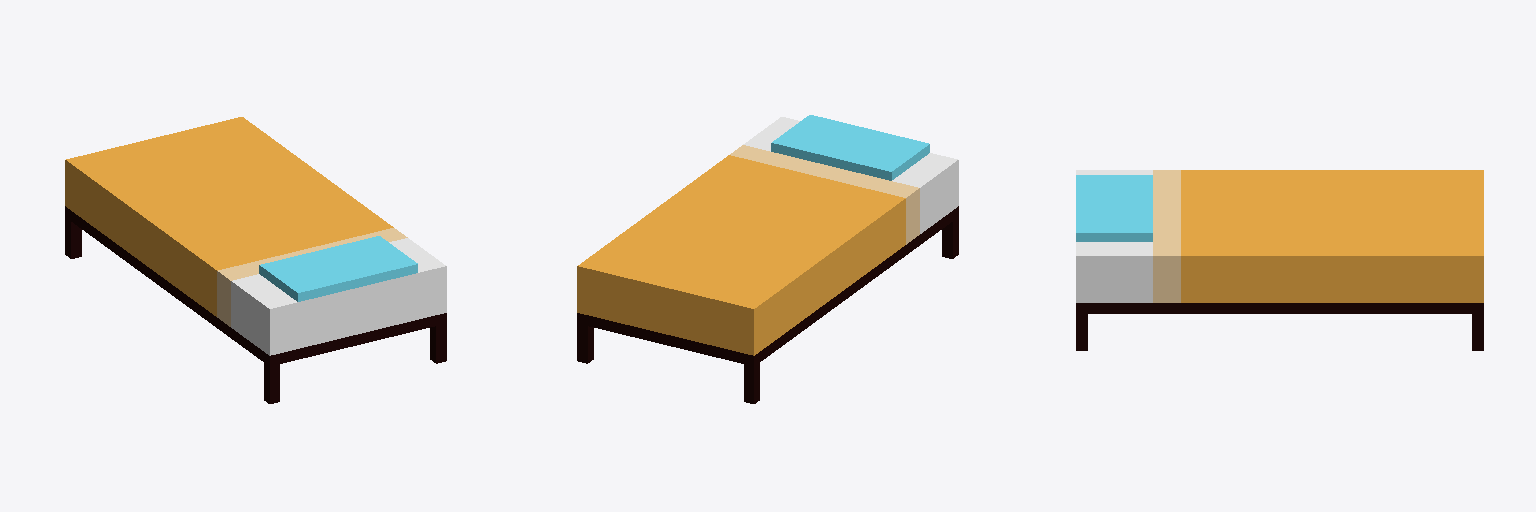
The model's file is bed.obj.
3 renders of one model, left to right at view 1: azimuth 30°, elevation 25°; view 2: azimuth 150°, elevation 25°; view 3: azimuth 270°, elevation 25°, orthographic.
Parts seen in each view (by area): view 1: Huton_立方体.001, Pillow_立方体.003, Leg_立方体; view 2: Huton_立方体.001, Pillow_立方体.003, Leg_立方体; view 3: Huton_立方体.001, Leg_立方体, Pillow_立方体.003.
Boxes of the visible parts, <box> form: Huton_立方体.001: <box>65,117,446,355</box>; Pillow_立方体.003: <box>259,236,417,301</box>; Leg_立方体: <box>65,206,446,403</box>; Huton_立方体.001: <box>577,117,958,355</box>; Pillow_立方体.003: <box>771,115,929,180</box>; Leg_立方体: <box>577,206,958,403</box>; Huton_立方体.001: <box>1076,170,1483,302</box>; Leg_立方体: <box>1076,303,1483,350</box>; Pillow_立方体.003: <box>1076,175,1152,241</box>.
Size of the model in its own units: 1.03 by 0.58 by 2.06.